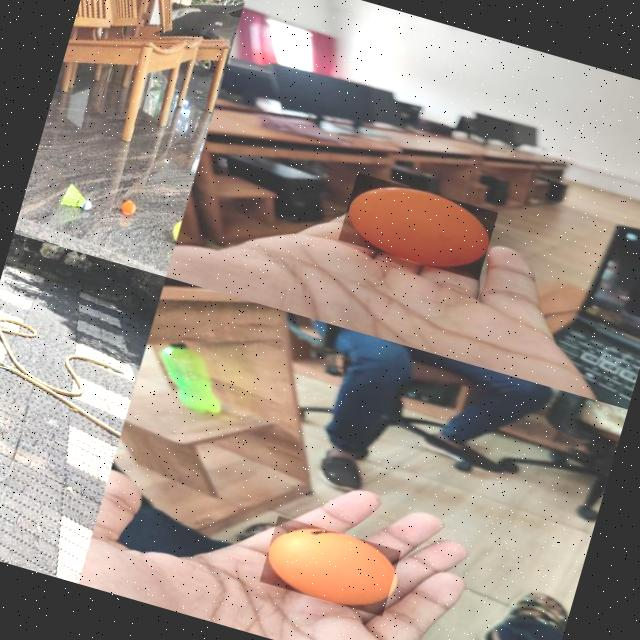ping-pong-ball: (337, 170, 498, 280), (258, 514, 401, 616), (118, 198, 134, 215)
